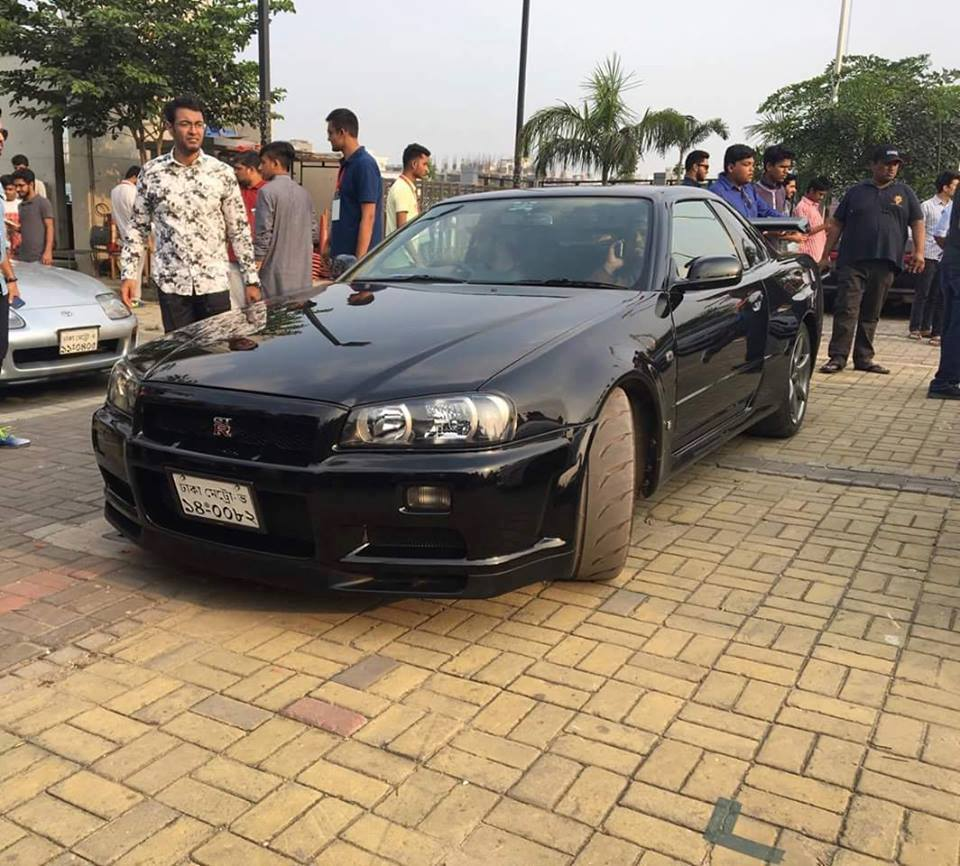registration_plate: (172, 472, 261, 530), (59, 327, 98, 354)
